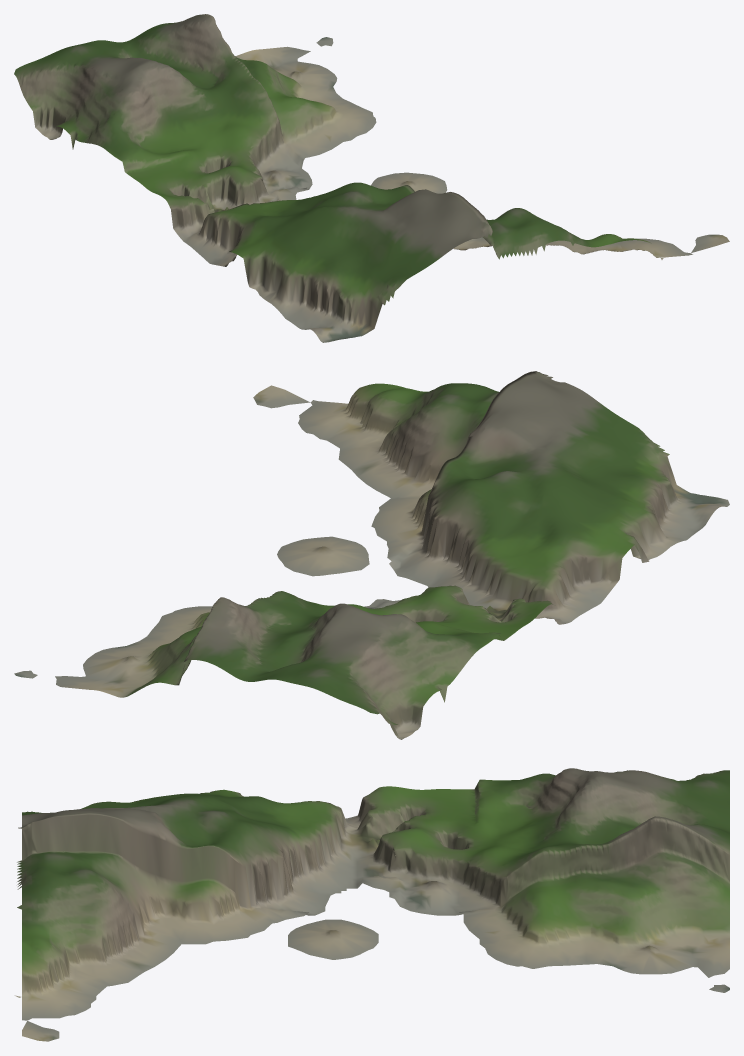
File: coast_tile_x1z1_lod1.glb
3 views of the same model, one above another, from view 1: azimuth 30°, elevation 25°; view 2: azimuth 150°, elevation 25°; view 3: azimuth 270°, elevation 25° (orthographic). The views are drawn at different scales.
Parts seen in each view (by area): view 1: coast_tile_x1z1_lod1; view 2: coast_tile_x1z1_lod1; view 3: coast_tile_x1z1_lod1.
Part boxes in pixels (x1,y1,x2,y2): coast_tile_x1z1_lod1: (14, 14, 729, 342); coast_tile_x1z1_lod1: (14, 371, 729, 739); coast_tile_x1z1_lod1: (14, 768, 729, 1041).
Bounding box in the file's own units: 602 × 126 × 807.
